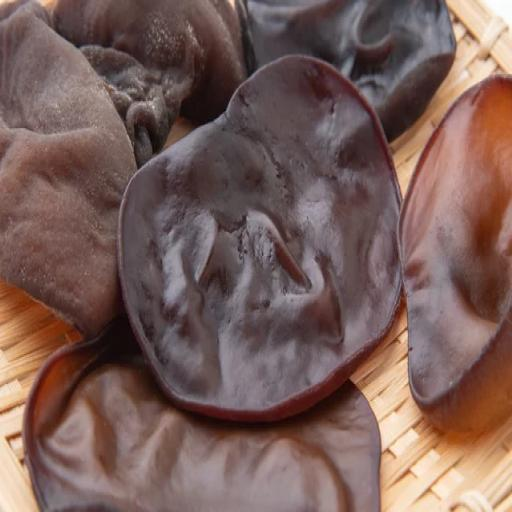mushroom: (119, 58, 411, 421), (16, 331, 392, 512), (0, 2, 136, 334), (397, 77, 512, 408), (244, 0, 454, 131), (58, 0, 196, 142)
